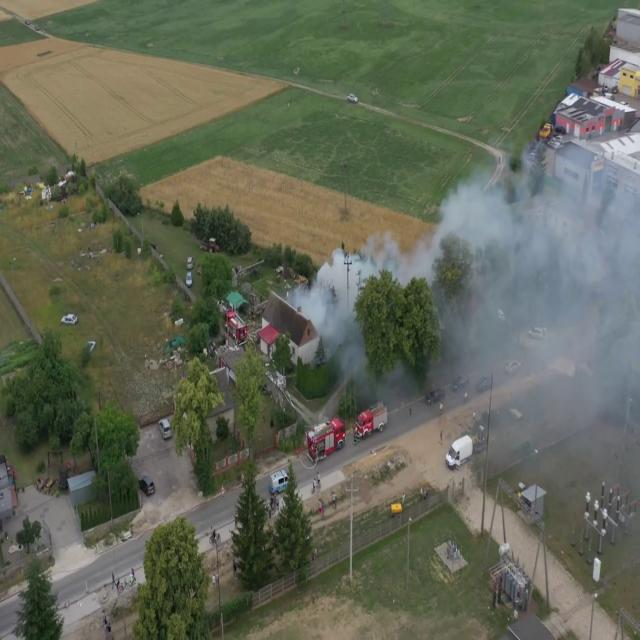Smoke: (430, 134, 640, 473), (290, 248, 378, 408)
